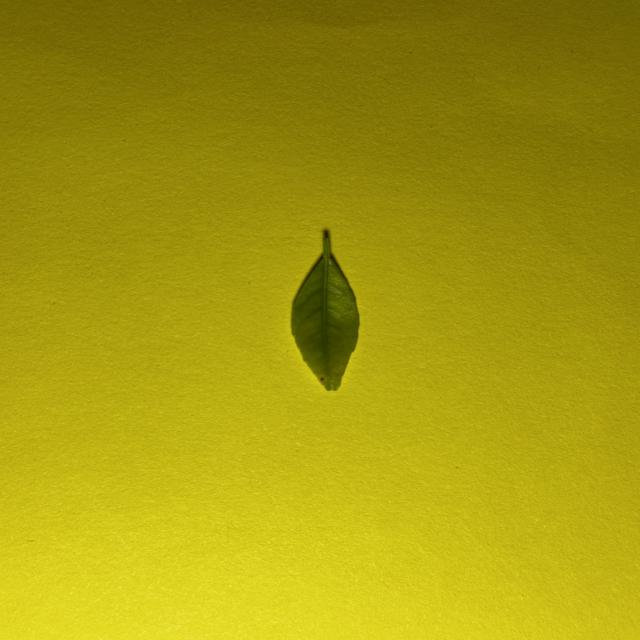greening: (291, 232, 359, 390)
